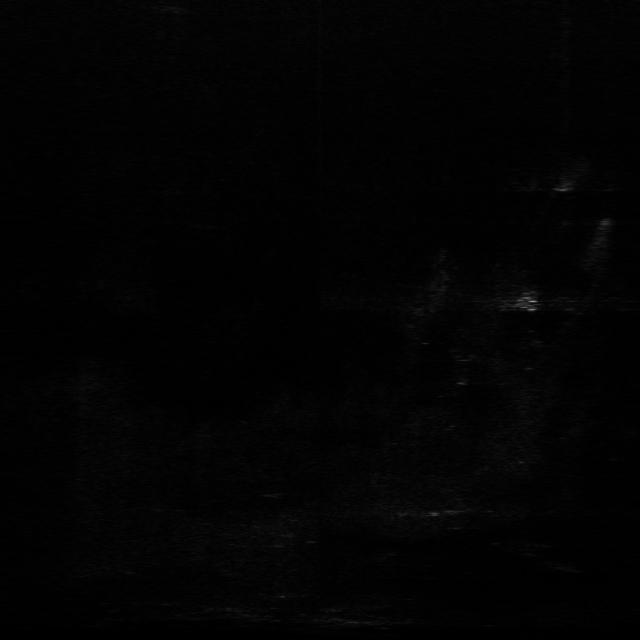rov: (512, 295, 540, 315)
